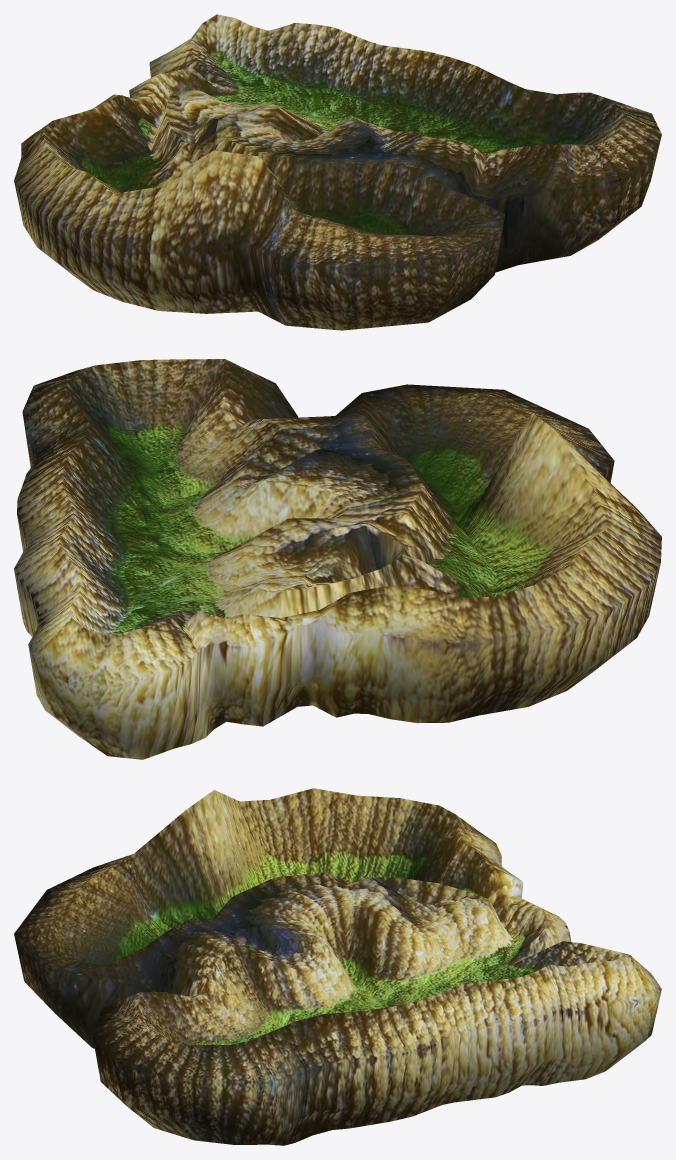
The model's file is Coral_07.fbx.
The picture shows the model from 3 angles, top to bottom: view 1: azimuth 30°, elevation 25°; view 2: azimuth 150°, elevation 25°; view 3: azimuth 270°, elevation 25°; orthographic projection. The views are drawn at different scales.
Parts seen in each view (by area): view 1: polySurface1; view 2: polySurface1; view 3: polySurface1.
Part boxes in pixels (box(x1,y1,x2,y2)): polySurface1: box(14, 14, 661, 330); polySurface1: box(14, 359, 661, 759); polySurface1: box(14, 788, 661, 1145).
Bounding box in the file's own units: 4.08 × 1.25 × 3.98.
